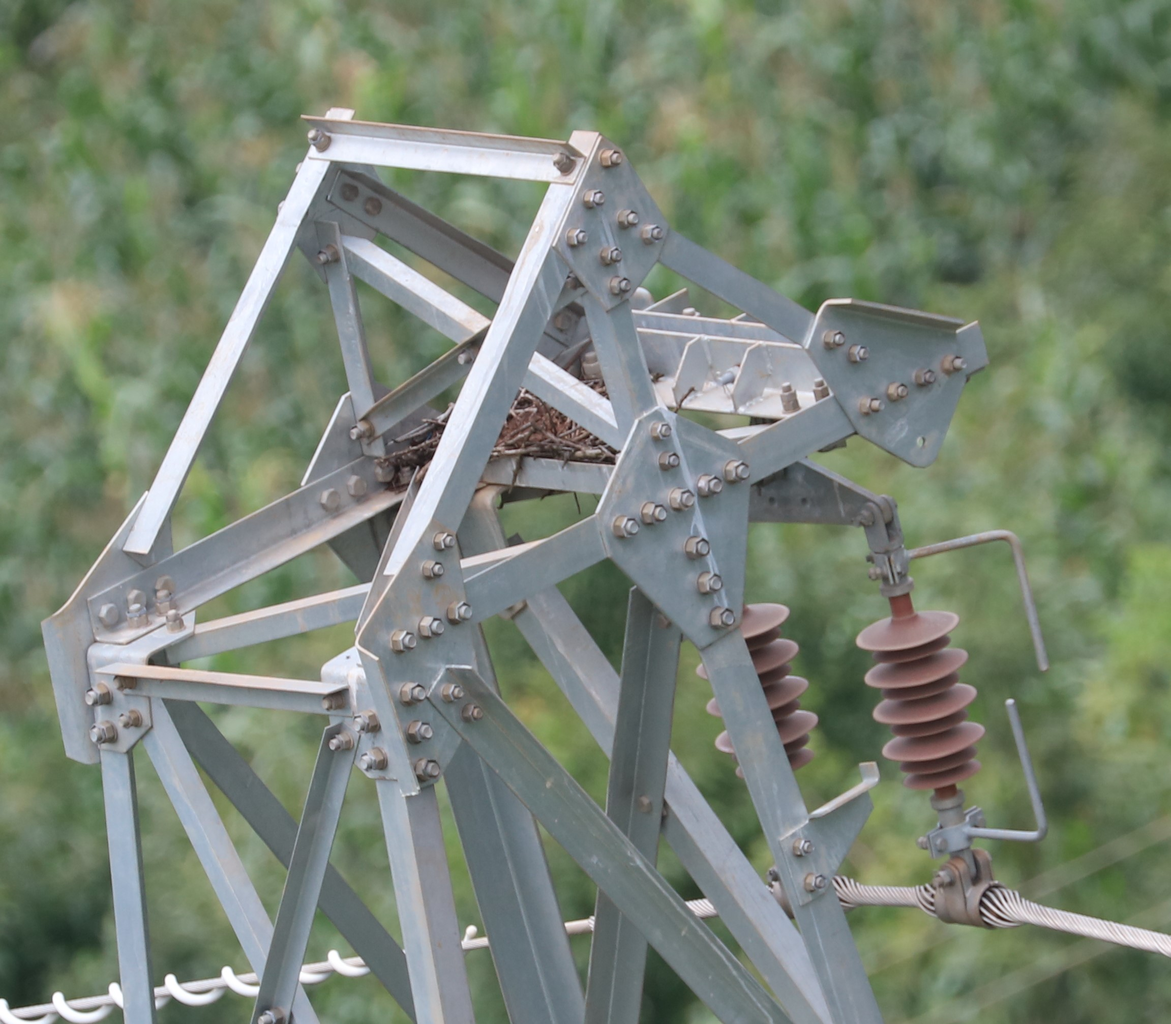nest: (408, 340, 671, 478)
